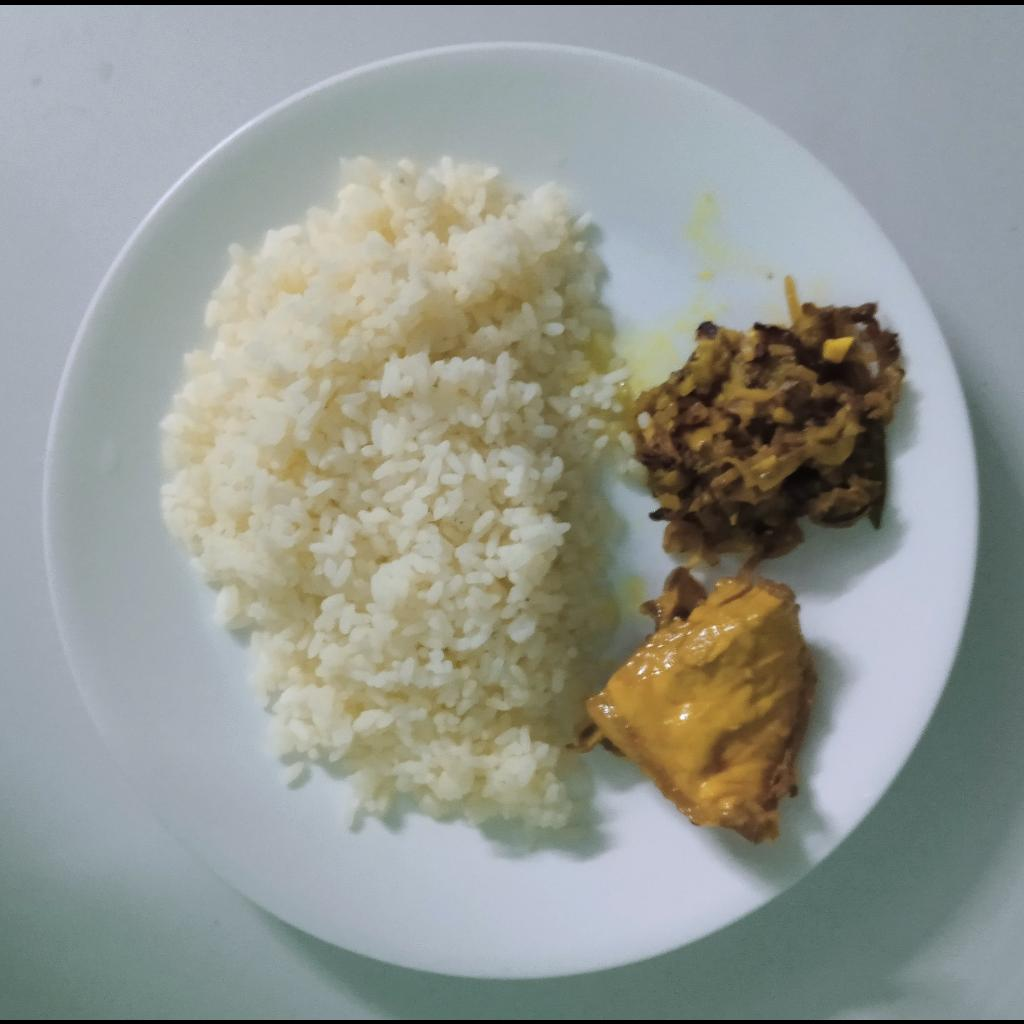chicken: (576, 562, 821, 847)
dundol: (631, 298, 907, 564)
rice: (156, 152, 626, 835)
